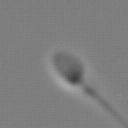normal: (78, 79, 126, 125)
